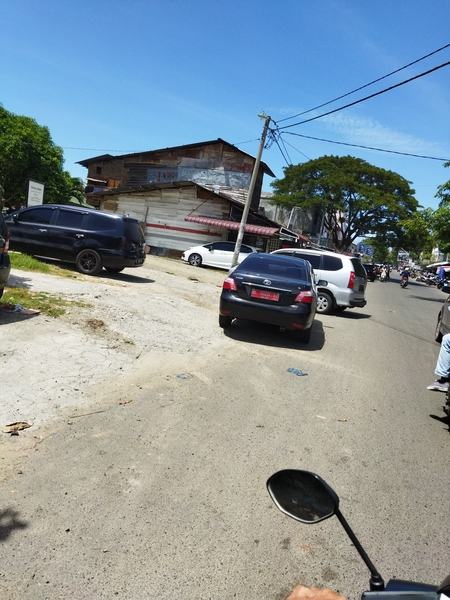car: (1, 197, 150, 279), (216, 249, 327, 346), (268, 244, 370, 319), (179, 238, 268, 280)
